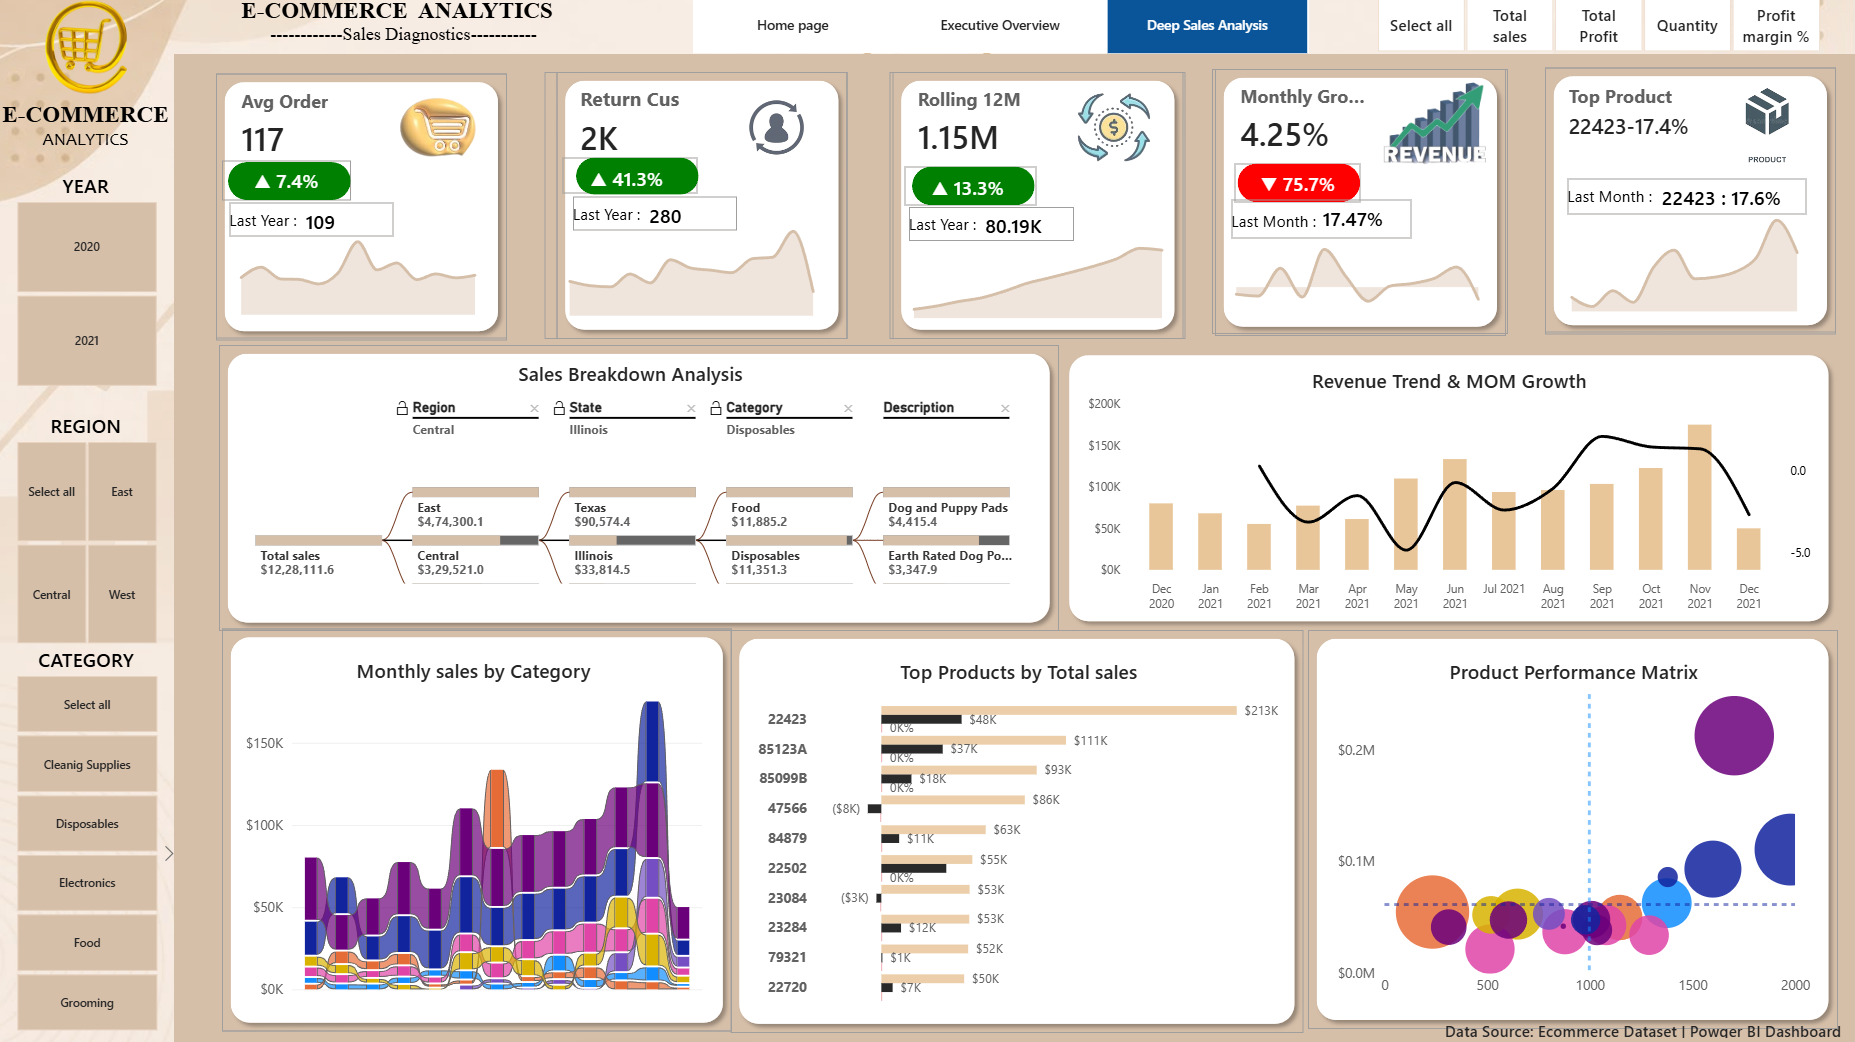

The page's visual inventory and layout, read from the dashboard file:
{"tool":"powerbi","page":{"name":"Deep Sales Analysis","canvas":[1920,1080],"ordinal":2},"visuals":[{"type":"group","id":"g1","title":"Executive Overview","box":[0,0,1920,1080],"z":0,"group":"g10"},{"type":"group","id":"g2","title":"Deep Sales Analysis","box":[0,0,1920,1080],"z":0},{"type":"shape","box":[183.3,58.3,1736.7,1021.7],"z":0,"group":"g1"},{"type":"group","id":"g3","title":"sales","box":[1597.5,72.2,300,275],"z":0,"group":"g25"},{"type":"shape","box":[1597.5,72.2,300,275],"z":0,"group":"g3"},{"type":"group","id":"g4","title":"sales","box":[1257.6,74.1,300.4,275],"z":0,"group":"g23"},{"type":"shape","box":[1257.6,74.1,300,275],"z":0,"group":"g4"},{"type":"shape","box":[577.9,78,300,275],"z":0,"group":"g6"},{"type":"group","id":"g5","title":"Avg order","box":[577.9,78,300,275],"z":0,"group":"g21"},{"type":"group","id":"g6","title":"sales","box":[577.9,78,300,275],"z":0,"group":"g5"},{"type":"group","id":"g7","title":"sales","box":[924,78,300,275],"z":0,"group":"g28"},{"type":"shape","box":[924,78,300,275],"z":0,"group":"g7"},{"type":"shape","box":[226.7,78.3,300,275],"z":0,"group":"g8"},{"type":"group","id":"g8","title":"sales","box":[226.7,78.3,300,275],"z":0,"group":"g16"},{"type":"shape","title":"YOY BG","box":[597.5,165.8,126.7,38.3],"z":0,"group":"g11"},{"type":"shape","title":"YOY BG","box":[238.7,170.3,126.7,39.3],"z":0,"group":"g12"},{"type":"shape","title":"YOY BG","box":[1280,171.6,126.7,40],"z":0,"group":"g13"},{"type":"shape","title":"YOY BG","box":[945.4,175.6,126.7,40],"z":0,"group":"g14"},{"type":"cardVisual","title":"YOY%","fields":{"Data":["_measures 2.Last Month Top Product KPI"]},"box":[1705.8,188.7,161.7,30],"z":0,"group":"g15"},{"type":"cardVisual","title":"YOY%","fields":{"Data":["_measures 2.Last Year Returning %"]},"box":[660.9,207.1,103.3,35],"z":0,"group":"g17"},{"type":"cardVisual","title":"YOY%","fields":{"Data":["_measures 2.Previous Month Revenue Growth %"]},"box":[1357.1,209.2,103.3,35],"z":0,"group":"g18"},{"type":"cardVisual","title":"YOY%","fields":{"Data":["_measures 2.Last Year AOV"]},"box":[307.3,211.9,103.3,35],"z":0,"group":"g19"},{"type":"cardVisual","title":"YOY%","fields":{"Data":["_measures 2.Last year Rolling Revenue"]},"box":[1007.4,218,103.3,35],"z":0,"group":"g20"},{"type":"lineChart","fields":{"Category":["Date table.Year"]},"box":[215.7,251.9,300.9,90.6],"z":0,"group":"g2"},{"type":"shape","box":[229.5,359,866.4,295.4],"z":0,"group":"g22"},{"type":"group","id":"g9","title":"sales By Category","box":[232,652,526,416],"z":0,"group":"g24"},{"type":"shape","box":[232,652,526,416],"z":0,"group":"g9"},{"type":"shape","box":[1353.7,653.4,546.2,411.6],"z":0,"group":"g27"},{"type":"shape","box":[757.1,654.2,591,415.5],"z":0,"group":"g26"},{"type":"image","box":[0,0,182.9,117.1],"z":1000,"group":"g1"},{"type":"cardVisual","fields":{"Data":["_measures 2.Top Product"]},"box":[1609.5,76.2,278,98],"z":1000,"group":"g3"},{"type":"cardVisual","fields":{"Data":["_measures 2.Revenue Growth %"]},"box":[1271.5,78,275.5,108.7],"z":1000,"group":"g4"},{"type":"cardVisual","fields":{"Data":["_measures 2.Returning Customers"]},"box":[589.6,80.2,275,110],"z":1000,"group":"g6"},{"type":"cardVisual","fields":{"Data":["_measures 2.Rolling 12M Revenue"]},"box":[937.9,81.9,275.5,108.7],"z":1000,"group":"g7"},{"type":"cardVisual","title":"AVG Order","fields":{"Data":["_measures 2.Avg Order"]},"box":[240.6,82.2,275.5,108.7],"z":1000,"group":"g8"},{"type":"cardVisual","title":"YOY%","fields":{"Data":["_measures 2.Returning YoY %"]},"box":[584,167.3,133.3,36.7],"z":1000,"group":"g11"},{"type":"cardVisual","title":"YOY%","fields":{"Data":["_measures 2.AOV YOY %"]},"box":[232.4,168.1,133.3,37.1],"z":1000,"group":"g12"},{"type":"cardVisual","title":"YOY%","fields":{"Data":["_measures 2.Revenue Growth MOM KPI"]},"box":[1277.2,172.3,131.2,37.5],"z":1000,"group":"g13"},{"type":"cardVisual","title":"YOY%","fields":{"Data":["_measures 2.Rolling Revenue YOY %"]},"box":[937,176.3,131.7,38.3],"z":1000,"group":"g14"},{"type":"shape","box":[1620.2,187.5,101.4,35.7],"z":1000,"group":"g15"},{"type":"lineChart","fields":{"Category":["Date table.Date.Variation.Date Hierarchy.Month"],"Y":["_measures 1.Total sales"]},"box":[1600.8,188.9,281.7,151.7],"z":1000,"group":"g25"},{"type":"lineChart","fields":{"Category":["Date table.Date.Variation.Date Hierarchy.Year","Date table.Date.Variation.Date Hierarchy.Month"],"Y":["_measures 2.Return Cus"]},"box":[565.7,204.7,303.3,141.7],"z":1000,"group":"g21"},{"type":"shape","box":[595,207.1,101.7,35],"z":1000,"group":"g17"},{"type":"lineChart","fields":{"Category":["Date table.Date.Variation.Date Hierarchy.Year","Date table.Date.Variation.Date Hierarchy.Month"],"Y":["_measures 2.Avg Order"]},"box":[227.3,207.7,293.3,135],"z":1000,"group":"g16"},{"type":"shape","box":[240.6,211.9,101.7,35],"z":1000,"group":"g19"},{"type":"shape","box":[1274.3,214.1,101.7,35],"z":1000,"group":"g18"},{"type":"lineChart","fields":{"Category":["Date table.Date.Variation.Date Hierarchy.Month"],"Y":["_measures 2.Rolling 12M"]},"box":[920.7,216.9,306.7,131.7],"z":1000,"group":"g28"},{"type":"shape","box":[940.7,218,101.7,35],"z":1000,"group":"g20"},{"type":"lineChart","fields":{"Category":["Date table.Date.Variation.Date Hierarchy.Month"],"Y":["_measures 2.Monthly Growth %"]},"box":[1254.2,227.1,300,113.3],"z":1000,"group":"g23"},{"type":"lineChart","fields":{"Category":["Date table.Date.Variation.Date Hierarchy.Month"]},"box":[217.5,241.1,300.9,90.6],"z":1000,"group":"g2"},{"type":"decompositionTreeVisual","title":"Sales Breakdown Analysis","fields":{"Analyze":["_measures 1.Total sales"],"ExplainBy":["state_region_mapping.Region","state_region_mapping.State","dim_products.Category","fact_sales.Description"]},"box":[226.6,360.7,855.5,261],"z":1000,"group":"g10"},{"type":"cardVisual","fields":{"Data":["_measures.Test"]},"box":[1480.8,1056.7,438.6,19.9],"z":1000},{"type":"group","id":"g10","title":"Decomposation tree","box":[0,0,1920,1080],"z":2000,"group":"g2"},{"type":"textbox","box":[0,107.1,182.9,72.9],"z":2000,"group":"g1"},{"type":"group","id":"g11","title":"YOY","box":[584,165.8,140.1,38.3],"z":2000,"group":"g6"},{"type":"group","id":"g12","title":"YOY","box":[232.4,168.1,133.3,41.5],"z":2000,"group":"g8"},{"type":"group","id":"g13","title":"YOY","box":[1277.2,171.6,131.2,40],"z":2000,"group":"g4"},{"type":"group","id":"g14","title":"YOY","box":[937,175.6,135.1,40],"z":2000,"group":"g7"},{"type":"group","id":"g15","title":"LY","box":[1620.2,187.5,247.2,35.7],"z":2000,"group":"g3"},{"type":"textbox","box":[211.7,0,401.7,66.7],"z":3000,"group":"g1"},{"type":"group","id":"g16","title":"Avg order","box":[226.7,78.3,300,275],"z":3000,"group":"g2"},{"type":"group","id":"g17","title":"LY","box":[595,207.1,169.2,35],"z":3000,"group":"g6"},{"type":"group","id":"g18","title":"LY","box":[1274.3,209.2,186.1,39.9],"z":3000,"group":"g4"},{"type":"group","id":"g19","title":"LY","box":[240.6,211.9,168.3,35],"z":3000,"group":"g8"},{"type":"group","id":"g20","title":"LY","box":[940.7,218,170,35],"z":3000,"group":"g7"},{"type":"group","id":"g21","title":"=reeturning customers","box":[565.7,78,312.1,275],"z":4000,"group":"g2"},{"type":"group","id":"g22","title":"Monthly sales Performance","box":[229.5,359,866.4,295.4],"z":4000,"group":"g1"},{"type":"group","id":"g23","title":"Orders","box":[1254.2,74.1,304.3,275],"z":5000,"group":"g2"},{"type":"group","id":"g24","title":"Sales By Category","box":[232,652,526,416],"z":5000,"group":"g1"},{"type":"group","id":"g25","title":"Orders","box":[1597.5,72.2,300.4,275],"z":6000,"group":"g2"},{"type":"group","id":"g26","title":"Regional Profit Analysis","box":[757.1,654.2,591,415.5],"z":6000,"group":"g1"},{"type":"group","id":"g27","title":"Best Performing Products","box":[1353.7,653.4,546.2,411.6],"z":7000,"group":"g1"},{"type":"ribbonChart","title":"Monthly sales by Category","fields":{"Category":["Date table.Month - Year"],"Series":["dim_products.Category"],"Y":["_measures 1.Total sales"]},"box":[240,668,504,384],"z":7000,"group":"g2"},{"type":"slicer","title":"YEAR","fields":{"Values":["Date table.Year"]},"box":[0,181.7,183.3,221.7],"z":8000,"group":"g1"},{"type":"scatterChart","title":"Product Performance Matrix","fields":{"Category":["dim_products.Stock Code"],"Series":["dim_products.Category"],"Size":["_measures 1.Total Profit"],"X":["_measures 1.Total Orders"],"Y":["_measures 1.Total sales"]},"box":[1367.3,669,520.8,382.3],"z":8000,"group":"g2"},{"type":"slicer","title":"REGION","fields":{"Values":["state_region_mapping.Region"]},"box":[0,428.3,183.3,240],"z":9000,"group":"g1"},{"type":"clusteredBarChart","fields":{"Category":["dim_products.Stock Code"],"Y":["_measures 1.Total sales","_measures 1.Total Profit","_measures 1.Profit margin %"]},"box":[768.5,669,573.5,396],"z":9000,"group":"g2"},{"type":"group","id":"g28","title":"Orders","box":[920.7,78,306.2,275],"z":10000,"group":"g1"},{"type":"slicer","title":"CATEGORY","fields":{"Values":["dim_products.Category"]},"box":[0,670,184,398],"z":10000,"group":"g2"},{"type":"slicer","fields":{"Values":["Product metric Selector.Product metric Selector"]},"box":[1404,0,496,58],"z":11000,"group":"g2"},{"type":"shape","box":[1098.2,360.9,801.7,292.6],"z":12000,"group":"g2"},{"type":"lineClusteredColumnComboChart","title":"Revenue Trend & MOM Growth","fields":{"Category":["Date table.Month - Year"],"Y":["_measures 1.Total sales"],"Y2":["_measures 2.Revenue Growth MoM %"]},"box":[1109.9,368.7,778.3,284.8],"z":13000,"group":"g2"},{"type":"pageNavigator","box":[718,0,636,58],"z":14000,"group":"g2"}]}

Visuals, with their boxes in screenshot pixels (x1, y1, x2, y2), scaled from the page's 1920x1080 canvas onto the 1855x1042 screenshot:
"Executive Overview" group: (left=0, top=0, right=1854, bottom=1041)
"Deep Sales Analysis" group: (left=0, top=0, right=1854, bottom=1041)
shape: (left=177, top=56, right=1854, bottom=1041)
"sales" group: (left=1543, top=70, right=1833, bottom=335)
shape: (left=1543, top=70, right=1833, bottom=335)
"sales" group: (left=1215, top=71, right=1505, bottom=337)
shape: (left=1215, top=71, right=1505, bottom=337)
shape: (left=558, top=75, right=848, bottom=341)
"Avg order" group: (left=558, top=75, right=848, bottom=341)
"sales" group: (left=558, top=75, right=848, bottom=341)
"sales" group: (left=893, top=75, right=1183, bottom=341)
shape: (left=893, top=75, right=1183, bottom=341)
shape: (left=219, top=76, right=509, bottom=341)
"sales" group: (left=219, top=76, right=509, bottom=341)
"YOY BG" shape: (left=577, top=160, right=700, bottom=197)
"YOY BG" shape: (left=231, top=164, right=353, bottom=202)
"YOY BG" shape: (left=1237, top=166, right=1359, bottom=204)
"YOY BG" shape: (left=913, top=169, right=1036, bottom=208)
"YOY%" cardVisual: (left=1648, top=182, right=1804, bottom=211)
"YOY%" cardVisual: (left=639, top=200, right=738, bottom=234)
"YOY%" cardVisual: (left=1311, top=202, right=1411, bottom=236)
"YOY%" cardVisual: (left=297, top=204, right=397, bottom=238)
"YOY%" cardVisual: (left=973, top=210, right=1073, bottom=244)
lineChart - Date table.Year: (left=208, top=243, right=499, bottom=330)
shape: (left=222, top=346, right=1059, bottom=631)
"sales By Category" group: (left=224, top=629, right=732, bottom=1030)
shape: (left=224, top=629, right=732, bottom=1030)
shape: (left=1308, top=630, right=1836, bottom=1028)
shape: (left=731, top=631, right=1302, bottom=1032)
image: (left=0, top=0, right=177, bottom=113)
cardVisual - _measures 2.Top Product: (left=1555, top=74, right=1824, bottom=168)
cardVisual - _measures 2.Revenue Growth %: (left=1228, top=75, right=1495, bottom=180)
cardVisual - _measures 2.Returning Customers: (left=570, top=77, right=835, bottom=184)
cardVisual - _measures 2.Rolling 12M Revenue: (left=906, top=79, right=1172, bottom=184)
"AVG Order" cardVisual: (left=232, top=79, right=499, bottom=184)
"YOY%" cardVisual: (left=564, top=161, right=693, bottom=197)
"YOY%" cardVisual: (left=225, top=162, right=353, bottom=198)
"YOY%" cardVisual: (left=1234, top=166, right=1361, bottom=202)
"YOY%" cardVisual: (left=905, top=170, right=1033, bottom=207)
shape: (left=1565, top=181, right=1663, bottom=215)
lineChart - Date table.Date.Variation.Date Hierarchy.Month x _measures 1.Total sales: (left=1547, top=182, right=1819, bottom=329)
lineChart - Date table.Date.Variation.Date Hierarchy.Year x Date table.Date.Variation.Date Hierarchy.Month: (left=547, top=197, right=840, bottom=334)
shape: (left=575, top=200, right=673, bottom=234)
lineChart - Date table.Date.Variation.Date Hierarchy.Year x Date table.Date.Variation.Date Hierarchy.Month: (left=220, top=200, right=503, bottom=331)
shape: (left=232, top=204, right=331, bottom=238)
shape: (left=1231, top=207, right=1329, bottom=240)
lineChart - Date table.Date.Variation.Date Hierarchy.Month x _measures 2.Rolling 12M: (left=890, top=209, right=1186, bottom=336)
shape: (left=909, top=210, right=1007, bottom=244)
lineChart - Date table.Date.Variation.Date Hierarchy.Month x _measures 2.Monthly Growth %: (left=1212, top=219, right=1502, bottom=328)
lineChart - Date table.Date.Variation.Date Hierarchy.Month: (left=210, top=233, right=501, bottom=320)
"Sales Breakdown Analysis" decompositionTreeVisual: (left=219, top=348, right=1045, bottom=600)
cardVisual - _measures.Test: (left=1431, top=1020, right=1854, bottom=1039)
"Decomposation tree" group: (left=0, top=0, right=1854, bottom=1041)
textbox: (left=0, top=103, right=177, bottom=174)
"YOY" group: (left=564, top=160, right=700, bottom=197)
"YOY" group: (left=225, top=162, right=353, bottom=202)
"YOY" group: (left=1234, top=166, right=1361, bottom=204)
"YOY" group: (left=905, top=169, right=1036, bottom=208)
"LY" group: (left=1565, top=181, right=1804, bottom=215)
textbox: (left=205, top=0, right=593, bottom=64)
"Avg order" group: (left=219, top=76, right=509, bottom=341)
"LY" group: (left=575, top=200, right=738, bottom=234)
"LY" group: (left=1231, top=202, right=1411, bottom=240)
"LY" group: (left=232, top=204, right=395, bottom=238)
"LY" group: (left=909, top=210, right=1073, bottom=244)
"=reeturning customers" group: (left=547, top=75, right=848, bottom=341)
"Monthly sales Performance" group: (left=222, top=346, right=1059, bottom=631)
"Orders" group: (left=1212, top=71, right=1506, bottom=337)
"Sales By Category" group: (left=224, top=629, right=732, bottom=1030)
"Orders" group: (left=1543, top=70, right=1834, bottom=335)
"Regional Profit Analysis" group: (left=731, top=631, right=1302, bottom=1032)
"Best Performing Products" group: (left=1308, top=630, right=1836, bottom=1028)
"Monthly sales by Category" ribbonChart: (left=232, top=644, right=719, bottom=1015)
"YEAR" slicer: (left=0, top=175, right=177, bottom=389)
"Product Performance Matrix" scatterChart: (left=1321, top=645, right=1824, bottom=1014)
"REGION" slicer: (left=0, top=413, right=177, bottom=645)
clusteredBarChart - dim_products.Stock Code x _measures 1.Total sales: (left=742, top=645, right=1297, bottom=1028)
"Orders" group: (left=890, top=75, right=1185, bottom=341)
"CATEGORY" slicer: (left=0, top=646, right=178, bottom=1030)
slicer - Product metric Selector.Product metric Selector: (left=1356, top=0, right=1836, bottom=56)
shape: (left=1061, top=348, right=1836, bottom=631)
"Revenue Trend & MOM Growth" lineClusteredColumnComboChart: (left=1072, top=356, right=1824, bottom=631)
pageNavigator: (left=694, top=0, right=1308, bottom=56)
